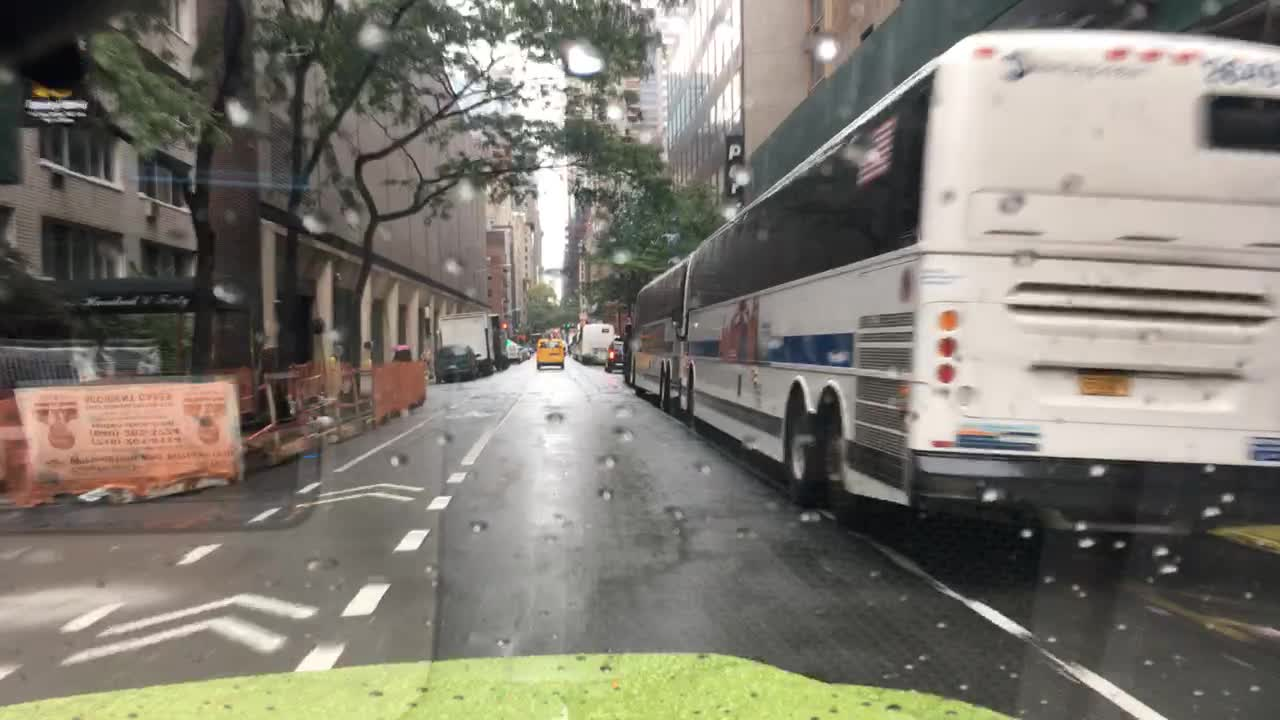bus: (627, 30, 1278, 542), (575, 324, 609, 365)
car: (435, 345, 480, 381), (536, 340, 567, 370), (609, 344, 631, 365), (504, 345, 520, 363), (517, 347, 533, 359), (522, 344, 535, 354), (568, 337, 575, 350)
traffic light: (564, 319, 572, 329), (502, 319, 508, 331)
truck: (437, 313, 499, 370)
